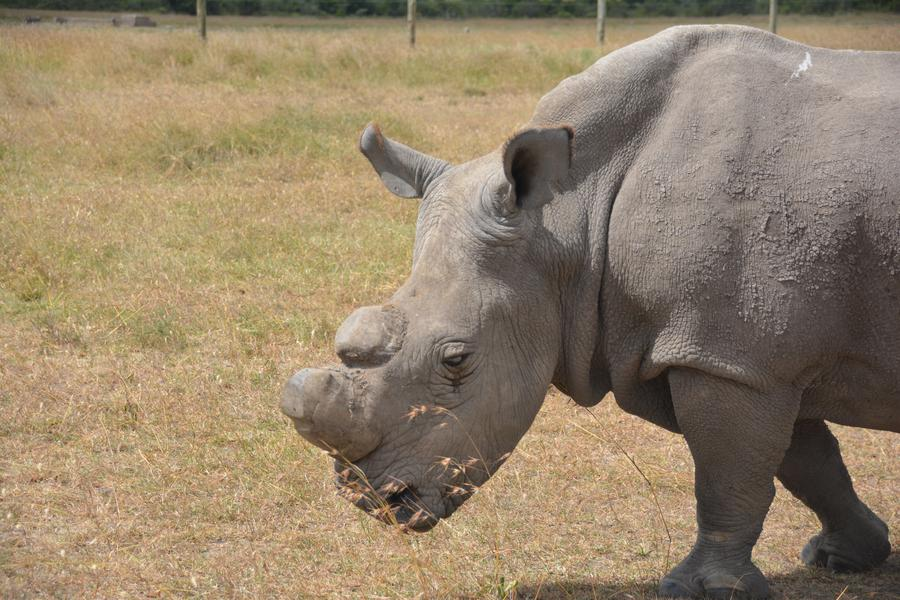rhino: (327, 55, 885, 592)
